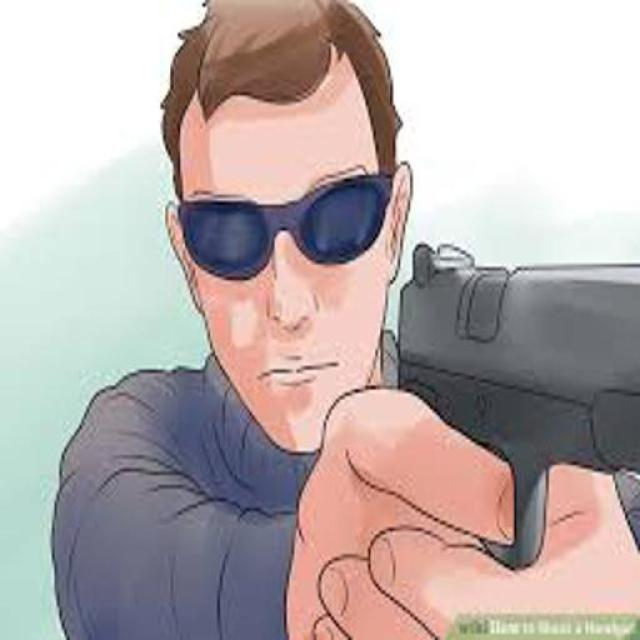pistol: (392, 234, 640, 580)
